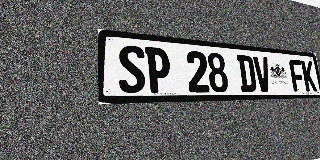2: (186, 50, 210, 93)
8: (206, 52, 229, 92)
D: (237, 55, 257, 92)
F: (289, 59, 306, 92)
K: (301, 60, 317, 91)
P: (145, 47, 172, 93)
S: (118, 44, 146, 93)
V: (253, 56, 272, 92)
